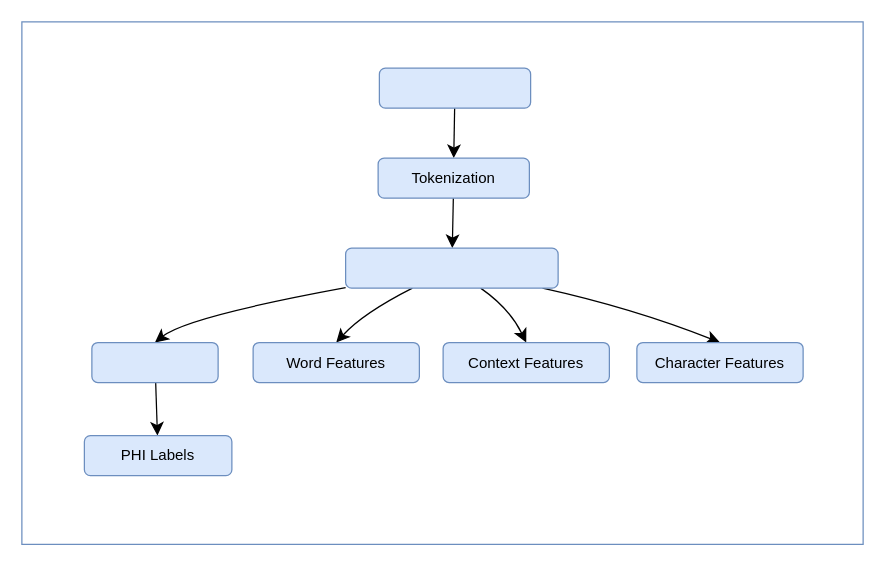
This 885x566 diagram has some shape labels left out. Here are the shapes that lost their labels. From the top down, the box of each, then its label:
(378, 67, 531, 108): Input Text
(344, 247, 558, 288): Feature Extraction
(91, 341, 218, 382): CRF Model
